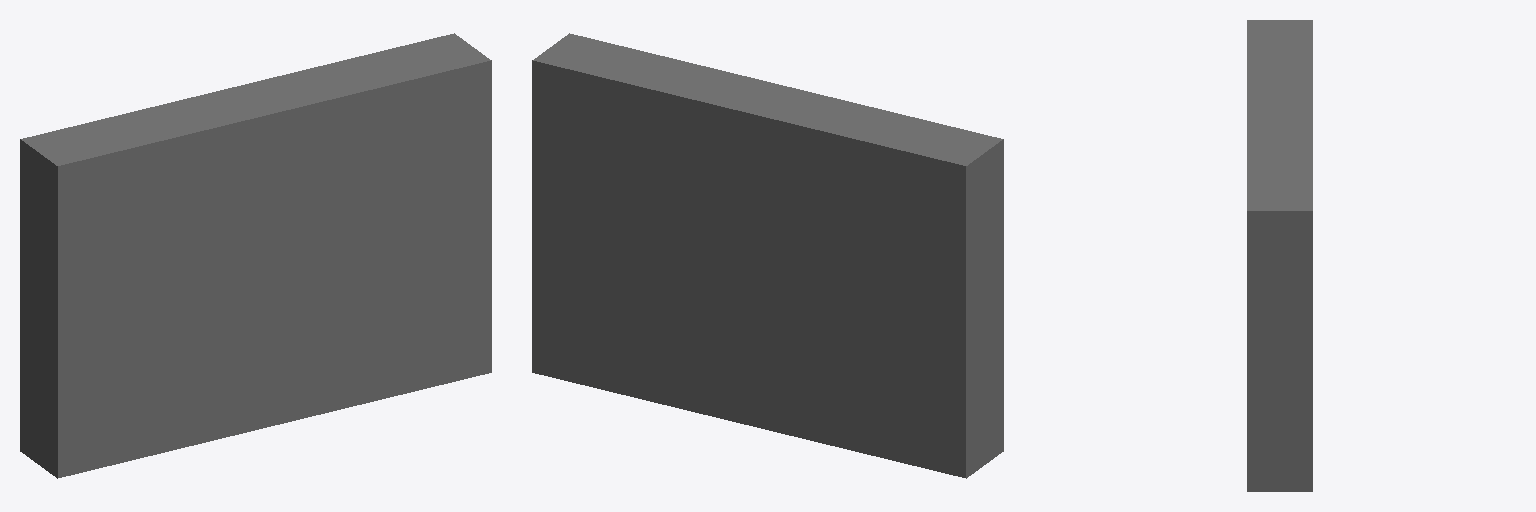
robot.urdf — cube_wall-0-0-0:
<?xml version="1.0"?>
<robot name="cube_wall-0-0-0">
  <link name="base">
    <visual>
      <geometry>
        <mesh filename="cube_wall-0-0-0.obj" scale="1 1 1"/>
      </geometry>
      <material name="gray">
        <color rgba="0.5 0.5 0.5 1.0"/>
      </material>
    </visual>
    <collision>
      <geometry>
        <mesh filename="cube_wall-0-0-0.obj" scale="1 1 1"/>
      </geometry>
    </collision>
    <inertial>
      <mass value="1.000"/>
      <inertia
          ixx="0.040555" ixy="0.000000" ixz="0.000000"
          iyy="0.120713" iyz="0.000000"
          izz="0.083748"/>
      <origin xyz="0.000090 0.000501 0.442132" rpy="0 0 0"/>
    </inertial>
  </link>
</robot>

--- Render facts (derived) ---
3 views of the same robot in one strip: view 1: azimuth 30°, elevation 25°; view 2: azimuth 150°, elevation 25°; view 3: azimuth 270°, elevation 25° (orthographic).
Robot: cube_wall-0-0-0 — 1 links, 0 joints (none); root link base; default pose: all joints at 0.
Links seen in each view (by area): view 1: base; view 2: base; view 3: base.
Boxes of the visible links, left/top/right/bottom form: base: left=20, top=33, right=491, bottom=478; base: left=532, top=33, right=1003, bottom=478; base: left=1247, top=20, right=1312, bottom=491.
Size in the robot's own frame: 0.9917 by 0.1468 by 0.682 metres.
1 mesh visuals loaded from 1 distinct referenced files (1 OBJ).
